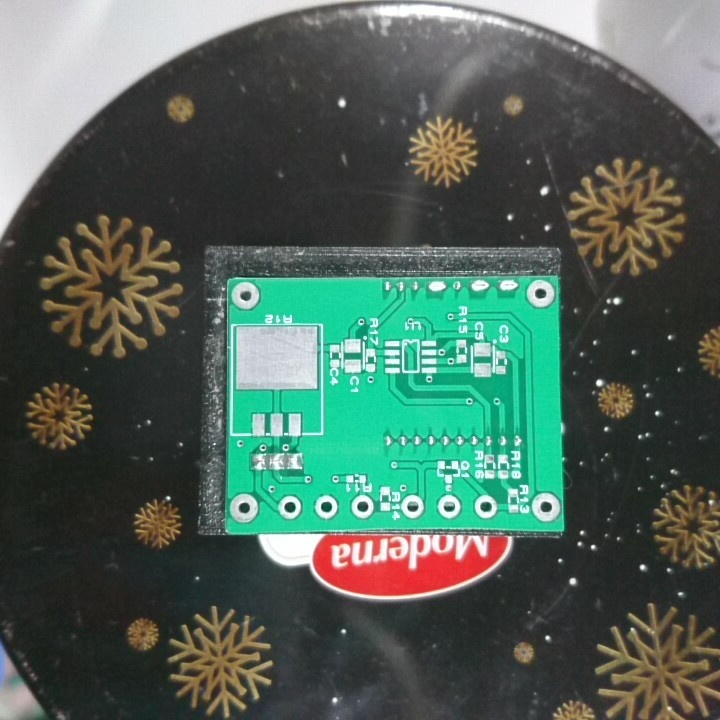F: (228, 280, 264, 312), (228, 491, 259, 526), (523, 278, 555, 310), (529, 491, 559, 523), (399, 492, 427, 520), (313, 492, 339, 521), (434, 492, 461, 519), (349, 493, 374, 521), (277, 493, 302, 520), (473, 495, 496, 518)
P: (425, 278, 448, 298), (468, 278, 491, 295), (497, 277, 519, 294)
